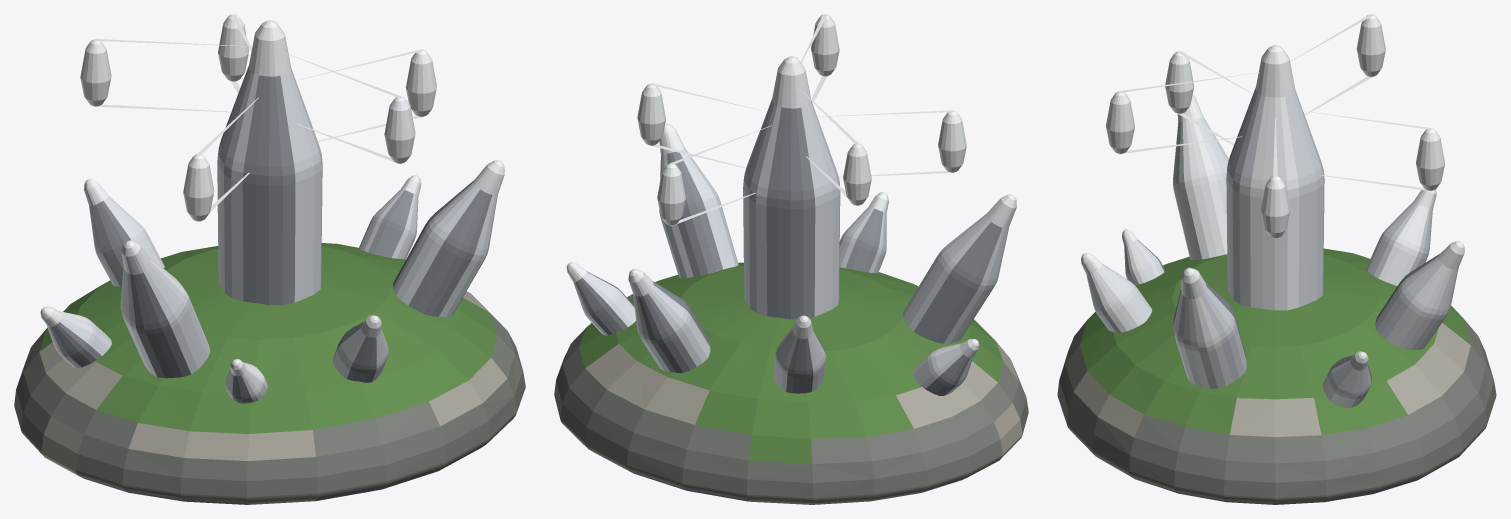
File: OreVein4.obj
The picture shows the model from 3 angles, left to right: view 1: azimuth 30°, elevation 25°; view 2: azimuth 150°, elevation 25°; view 3: azimuth 270°, elevation 25°; orthographic projection. The views are drawn at different scales.
Bounding box in the file's own units: 6.02 × 5.46 × 5.39.
